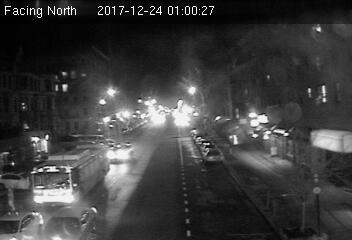bus: (27, 142, 112, 201)
car: (109, 141, 133, 162), (201, 148, 223, 162)
